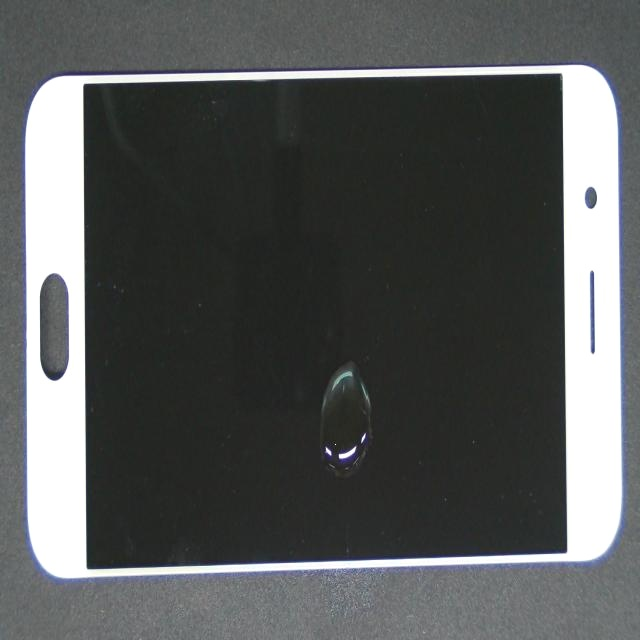oil: (153, 192, 486, 640)
